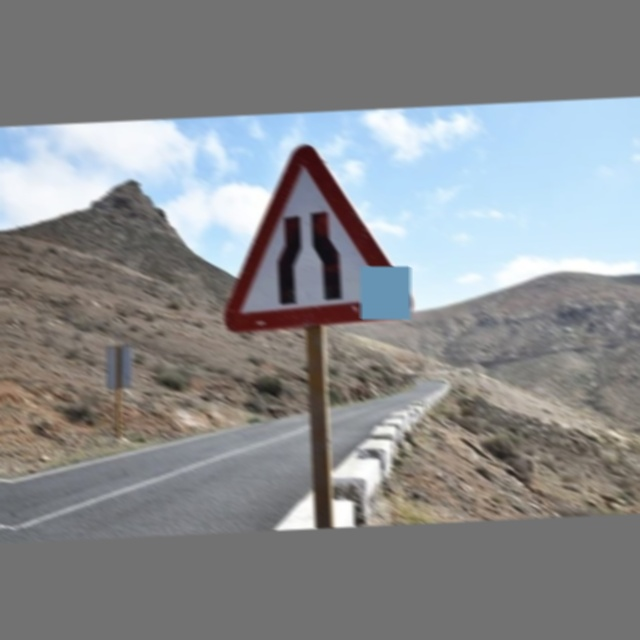Narrow_Road_Ahead: (211, 142, 413, 334)
